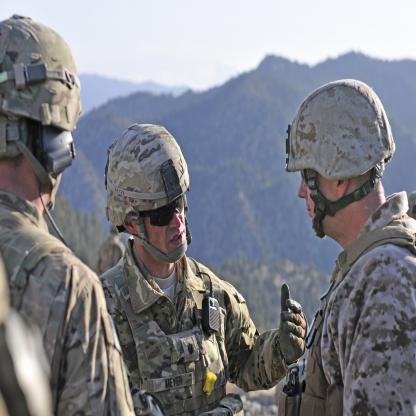Helmet: (282, 79, 397, 241), (104, 122, 194, 264), (2, 22, 79, 183)
